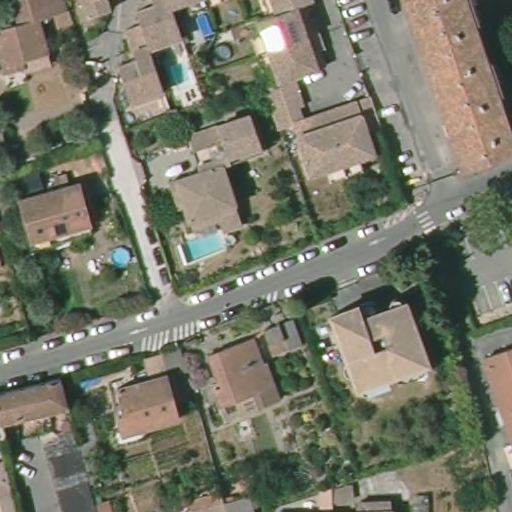pool: (175, 228, 231, 263), (159, 56, 192, 89), (108, 244, 134, 273)
